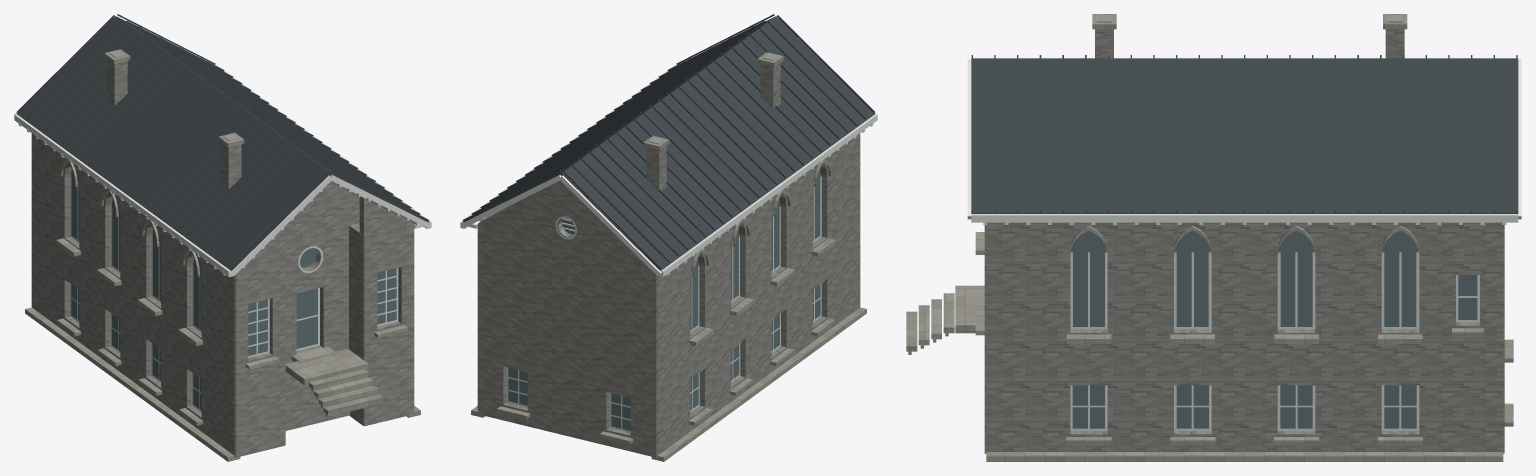
3 views of the same model, side by side, from view 1: azimuth 30°, elevation 25°; view 2: azimuth 150°, elevation 25°; view 3: azimuth 270°, elevation 25° (orthographic). The views are drawn at different scales.
Parts seen in each view (by area): view 1: curtis__brick, curtis__roof, curtis__stone, curtis__glass, curtis__trim, curtis__frame, curtis; view 2: curtis__brick, curtis__roof, curtis__stone, curtis__glass, curtis__trim, curtis__frame; view 3: curtis__brick, curtis__roof, curtis__glass, curtis__stone, curtis__trim, curtis__frame, curtis.
Boxes of the visible parts, x1,y1,x2,y2 form: curtis__brick: (31,59,414,457); curtis__roof: (16,14,429,270); curtis__stone: (25,49,420,461); curtis__glass: (71,164,396,410); curtis__trim: (14,65,431,276); curtis__frame: (70,176,398,411); curtis: (309,369,383,414); curtis__brick: (477,62,860,457); curtis__roof: (462,14,875,270); curtis__stone: (471,52,866,461); curtis__glass: (508,164,820,430); curtis__trim: (460,65,877,276); curtis__frame: (506,176,821,432); curtis__brick: (984,29,1504,453); curtis__roof: (971,55,1518,213); curtis__glass: (1071,230,1477,428); curtis__stone: (908,14,1513,461); curtis__trim: (967,59,1521,224); curtis__frame: (1070,252,1479,430); curtis: (906,293,954,351).
Bounding box in the file's own units: 7.5 × 9.81 × 15.41.
12 materials, 7 textured.
